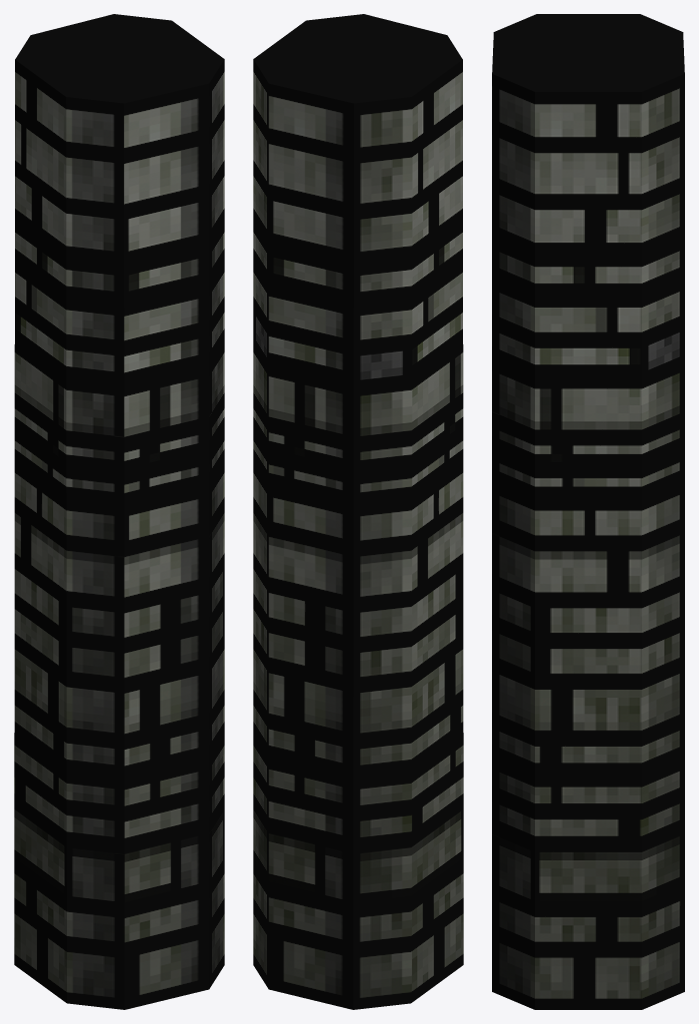
File: Pillar.fbx
3 renders of one model, left to right at view 1: azimuth 30°, elevation 25°; view 2: azimuth 150°, elevation 25°; view 3: azimuth 270°, elevation 25°, orthographic.
Parts seen in each view (by area): view 1: Pillar.001; view 2: Pillar.001; view 3: Pillar.001.
Boxes of the visible parts, x1,y1,x2,y2 form: Pillar.001: (14,14,224,1009); Pillar.001: (253,14,463,1009); Pillar.001: (492,14,684,1009).
Size of the model in its own units: 269 by 1476 by 281.
1 material, 1 textured.
